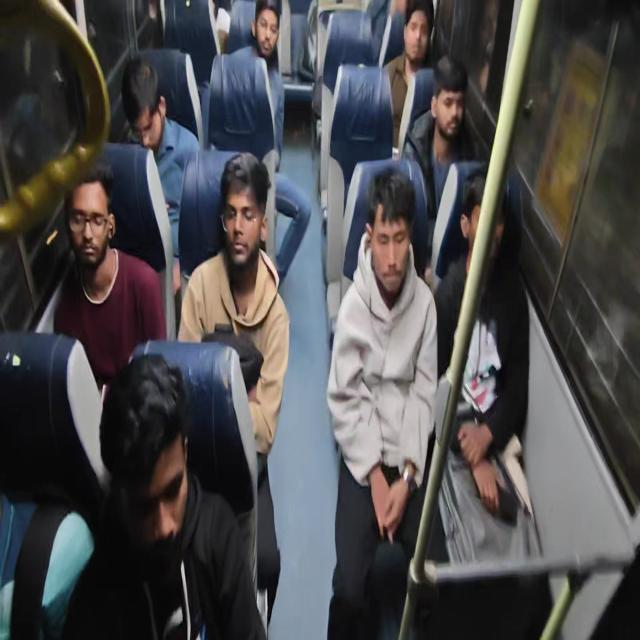person: (61, 352, 267, 638), (177, 151, 290, 630), (326, 168, 438, 638), (432, 171, 532, 565), (53, 163, 167, 393), (120, 55, 201, 298), (401, 54, 486, 274), (230, 0, 284, 169), (382, 0, 435, 154)
